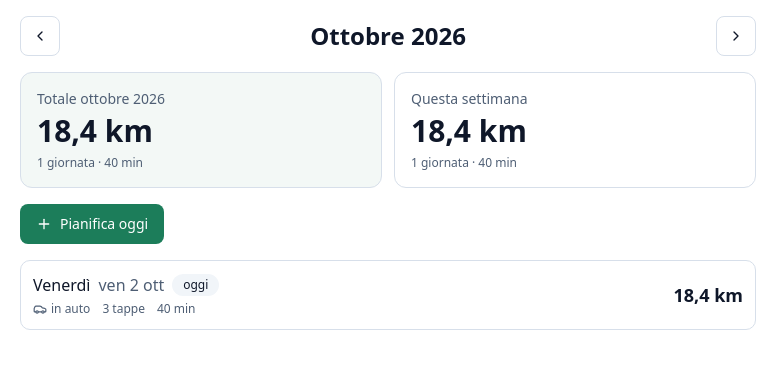
it: DashboardPage › carica il mese richiesto quando si cambia mese
The width and height of the screenshot is (773, 379).
Expected: the list is shown, [20, 260, 756, 330]
Click the button named "Mese precedente" at point(40, 36), box [20, 16, 60, 56]
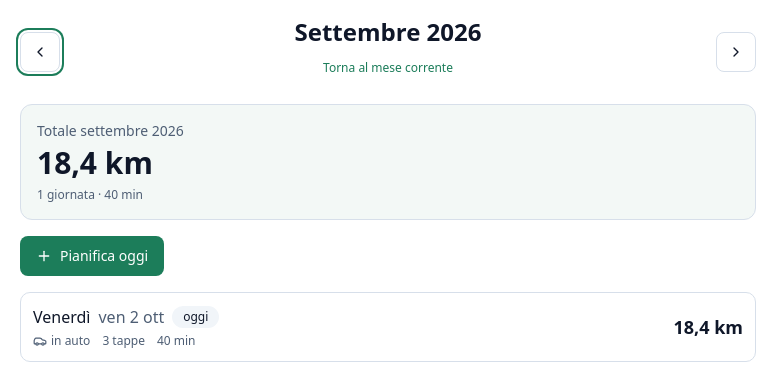
Now the button "Torna al mese corrente" is shown, box [323, 48, 453, 88]
